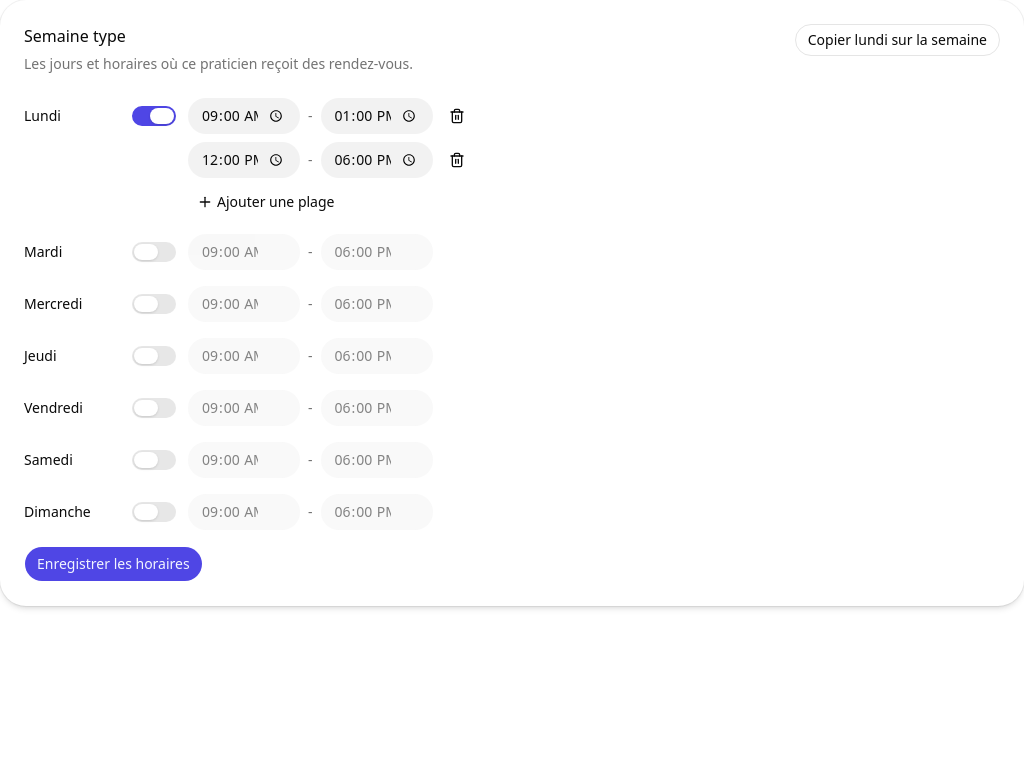
Test case: WeeklyScheduleForm — validation › refuse deux plages qui se chevauchent
The width and height of the screenshot is (1024, 768).
Click the button "Enregistrer les horaires" at (113,564), box [24, 546, 203, 582]
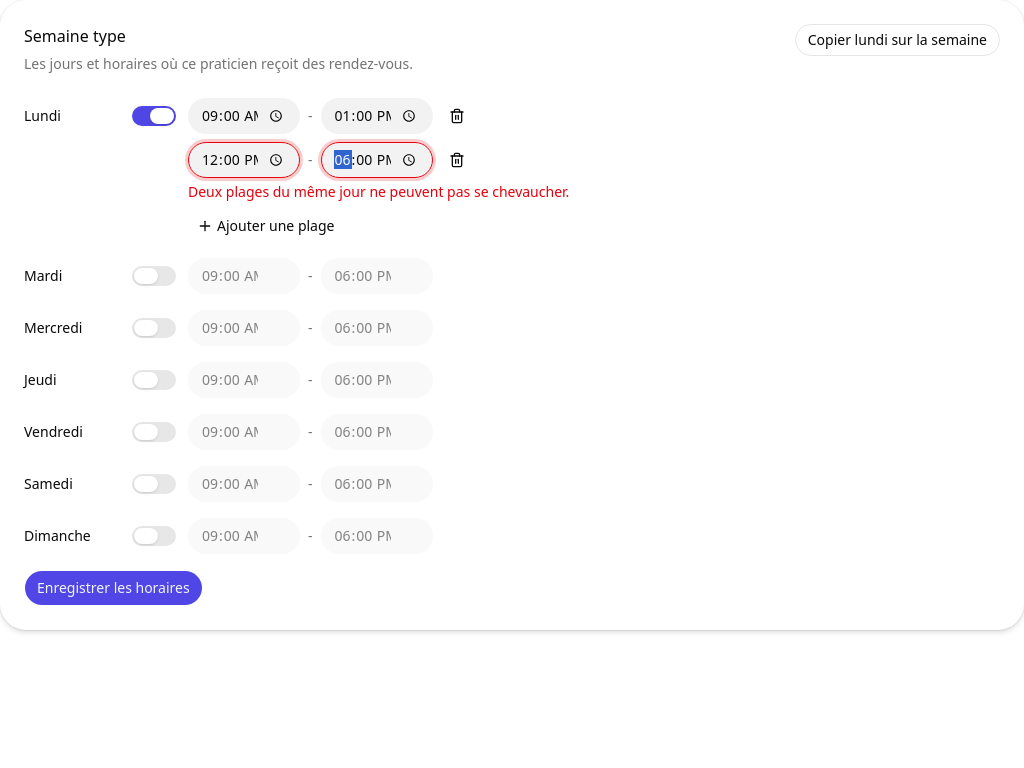
expect the text "Deux plages du même jour ne peuvent pas se chevaucher." is shown: met, box [188, 182, 569, 201]
